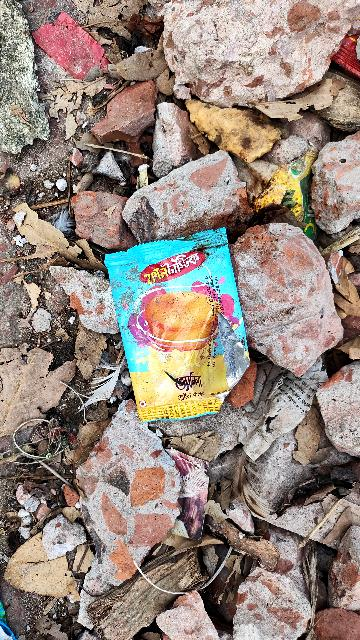packet: (105, 226, 271, 429)
